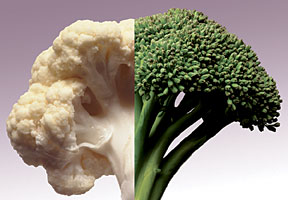cauliflower: (4, 17, 133, 199)
